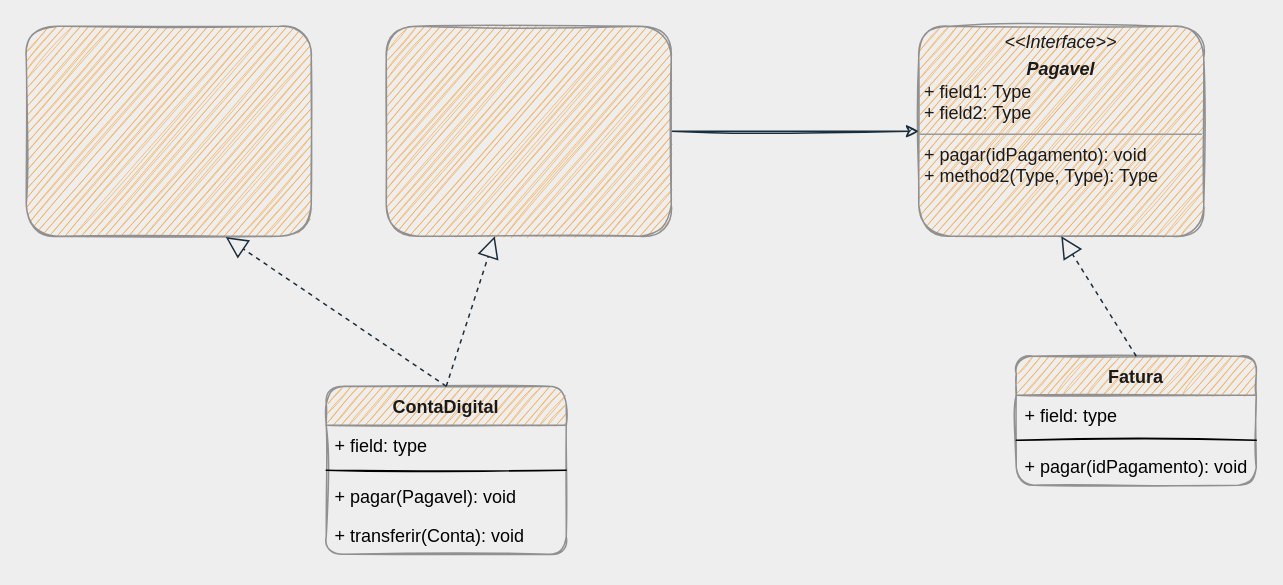
The diagram is 1283 pixels wide and 585 high, and some of its shapes have lost their labels. Each missing label, with the centre of its shape:
"<<Interface>> Pagador + field1: Type + field2: Type + pagar(Pagavel): void" goes at pixel 528 130.
"<<Interface>> Transferir + field1: Type + field2: Type + transferir(Conta): void" goes at pixel 168 130.
